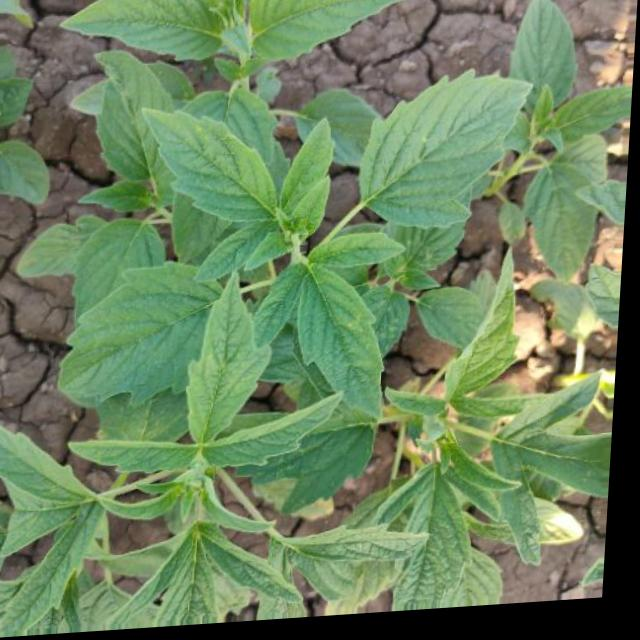crop: (0, 0, 640, 636)
